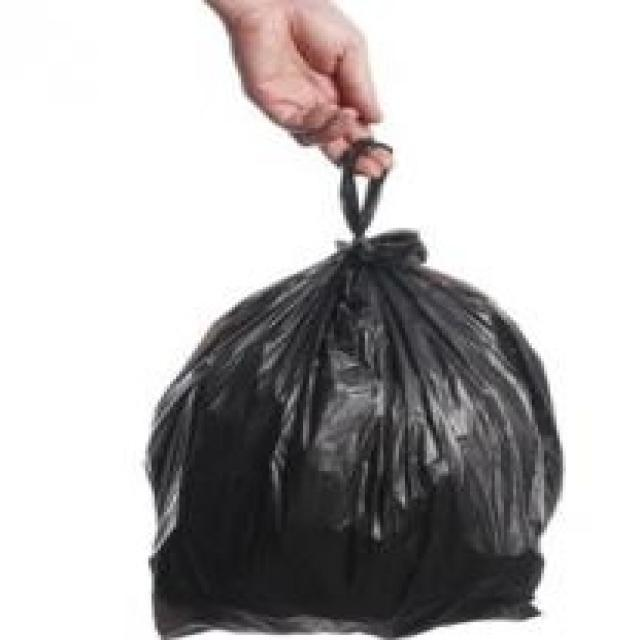Vinyl: (135, 142, 568, 638)
